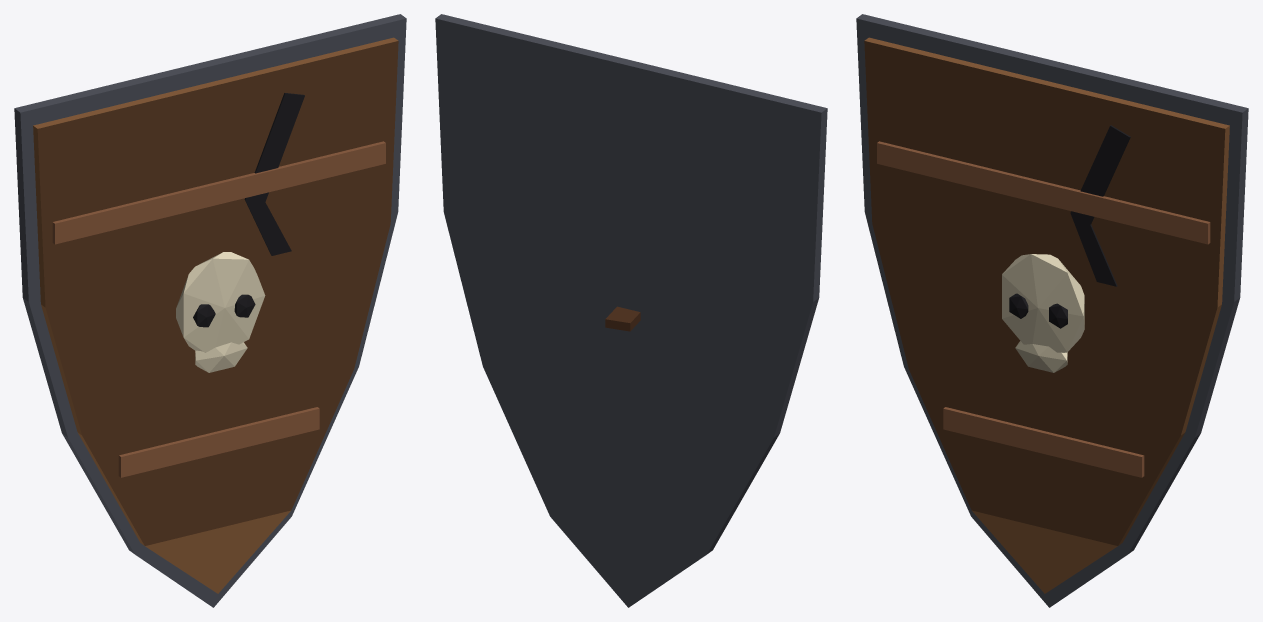
The model's file is Skeleton_Shield.fbx.
The picture shows the model from 3 angles, left to right: view 1: azimuth 30°, elevation 25°; view 2: azimuth 150°, elevation 25°; view 3: azimuth 330°, elevation 25°; orthographic projection.
Visible parts, largest first — view 1: Skeleton_Shield; view 2: Skeleton_Shield; view 3: Skeleton_Shield.
Boxes of the visible parts, box(x1,y1,x2,y2) form: Skeleton_Shield: box(14, 14, 406, 607); Skeleton_Shield: box(435, 14, 827, 607); Skeleton_Shield: box(856, 14, 1248, 607).
Bounding box in the file's own units: 0.5833 × 0.7827 × 0.0933.
